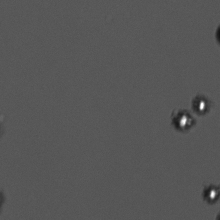Living Cell: (171, 107, 196, 132), (190, 93, 213, 116), (202, 180, 220, 208)
